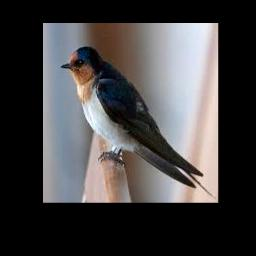Swallow: (60, 46, 216, 199)
